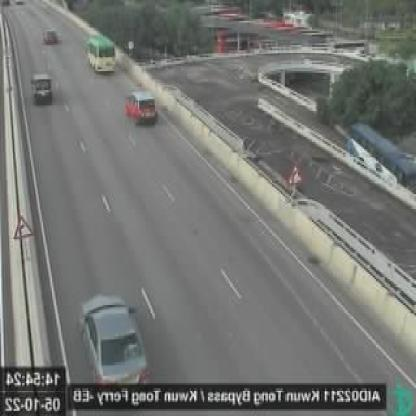Car: (81, 296, 148, 383), (128, 88, 158, 125), (32, 73, 53, 107), (43, 28, 58, 43)
Minibus: (86, 35, 117, 74)
